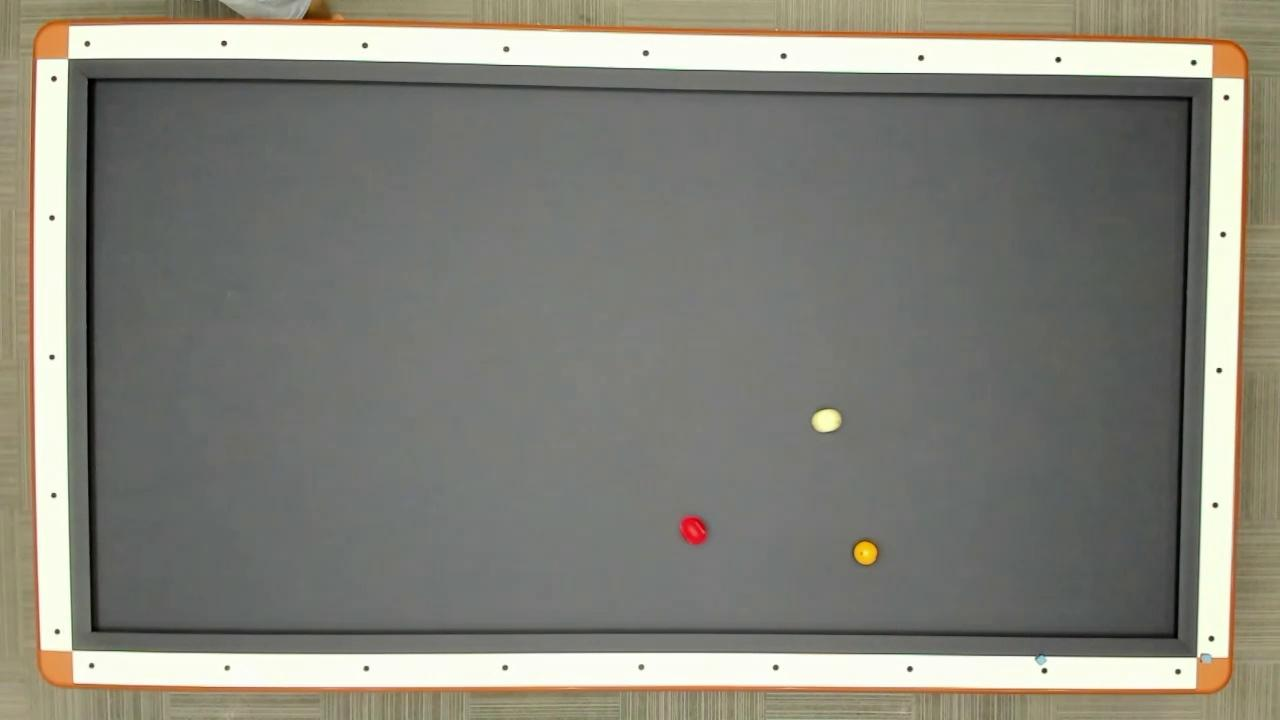Red: (678, 515, 708, 547)
White: (808, 407, 844, 435)
Yellow: (852, 538, 879, 567)
